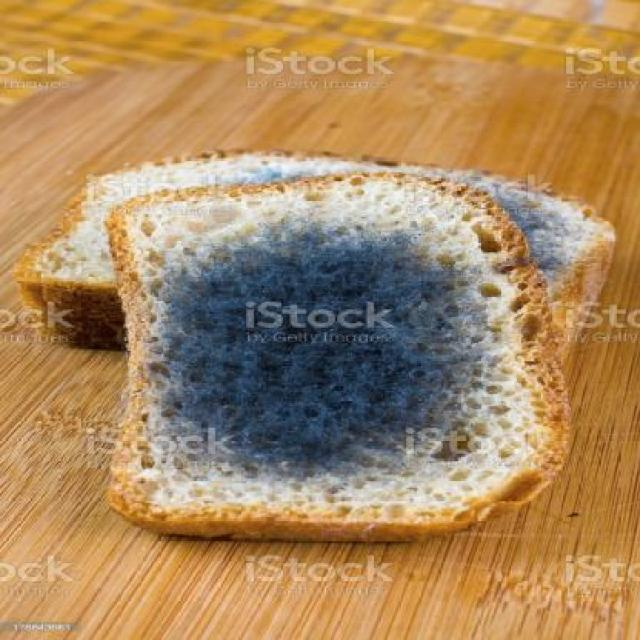mold_bread: (144, 215, 493, 473), (465, 159, 599, 270), (212, 144, 330, 195)
